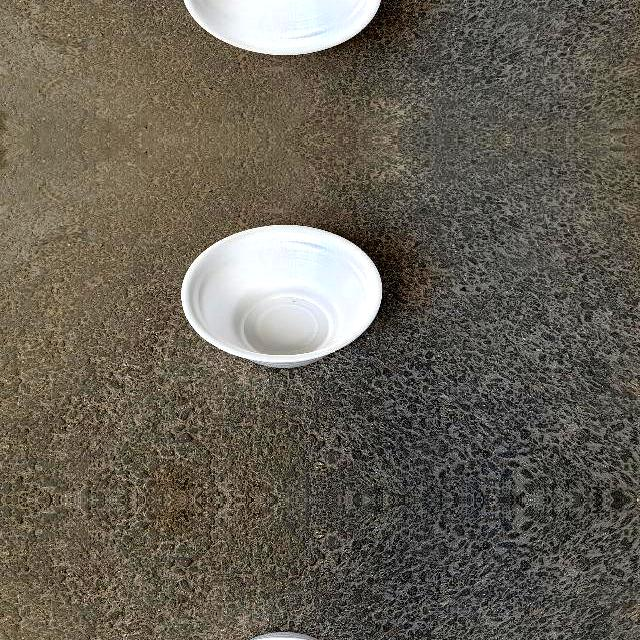Styrofoam: (180, 225, 384, 368), (181, 224, 382, 368), (180, 0, 384, 55), (183, 0, 381, 56)
